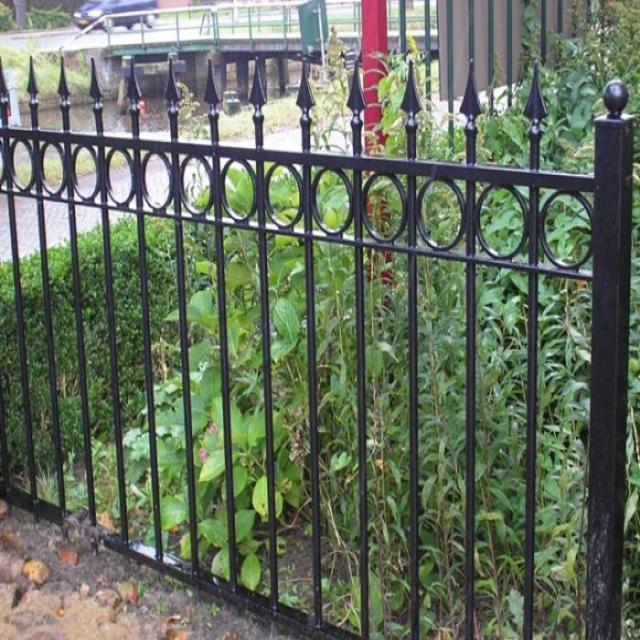fence line: (8, 66, 594, 640)
